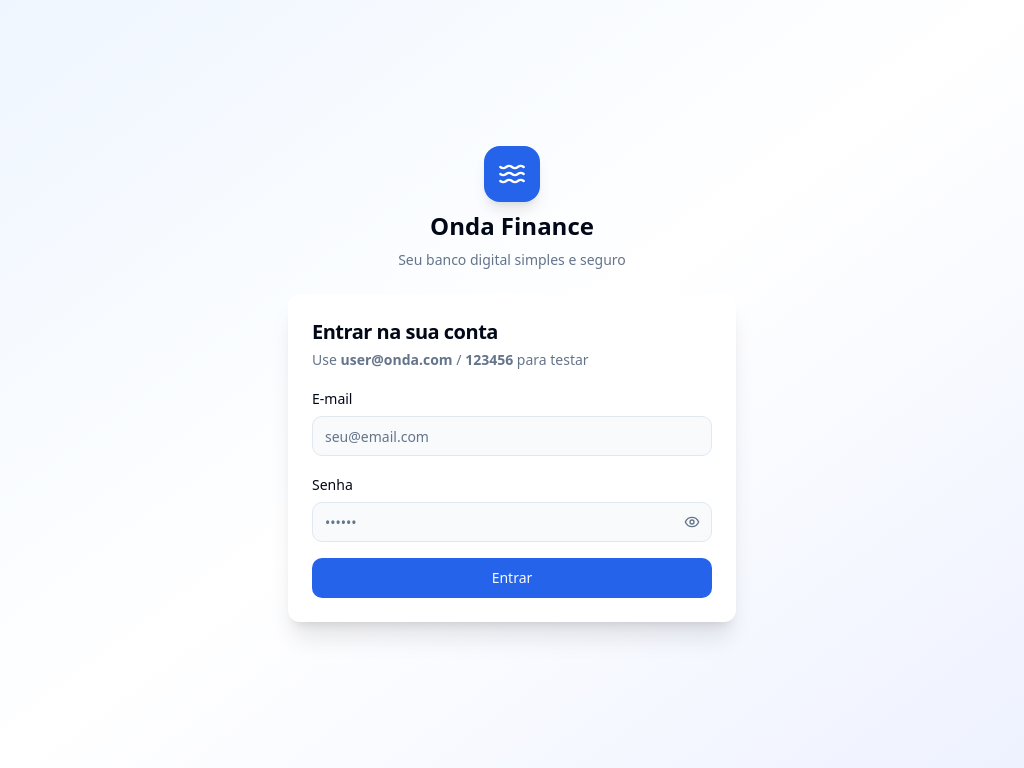
Login Page › shows error message on invalid credentials
Type "wrong@email.com" into the field labelled "E-mail" at (512, 436), box 312,416 -> 712,456
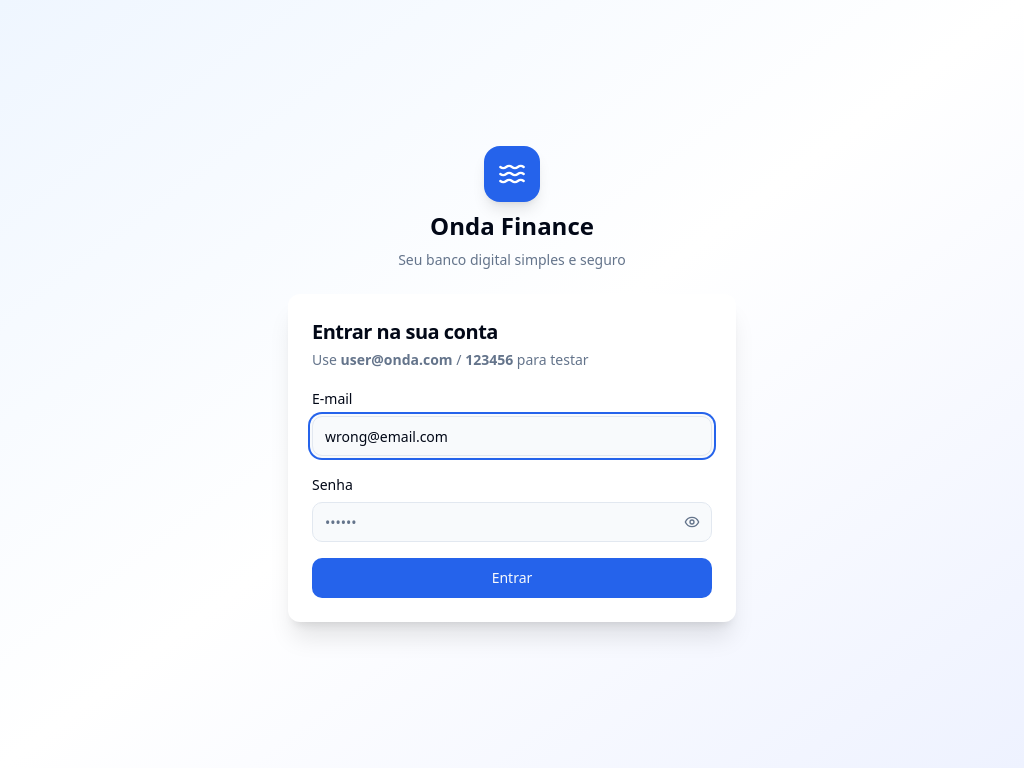
Type "wrongpassword" into the password field with placeholder "••••••" at (512, 522), box 312,502 -> 712,542
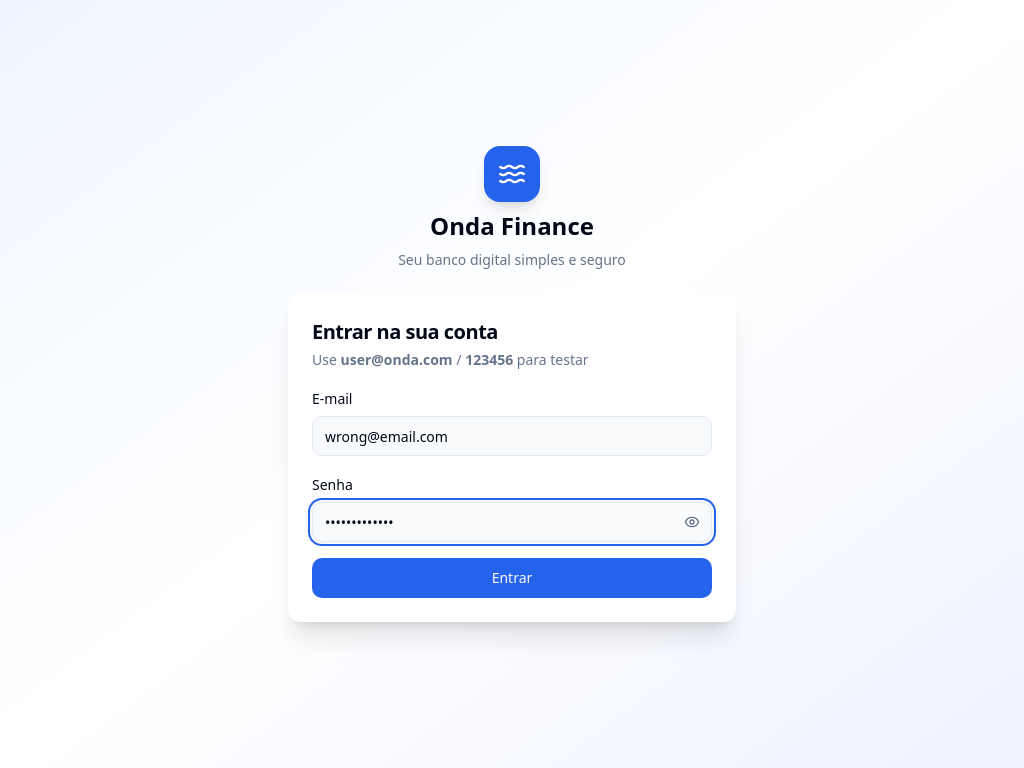
Click the button "Entrar" at (512, 578), box 312,558 -> 712,598
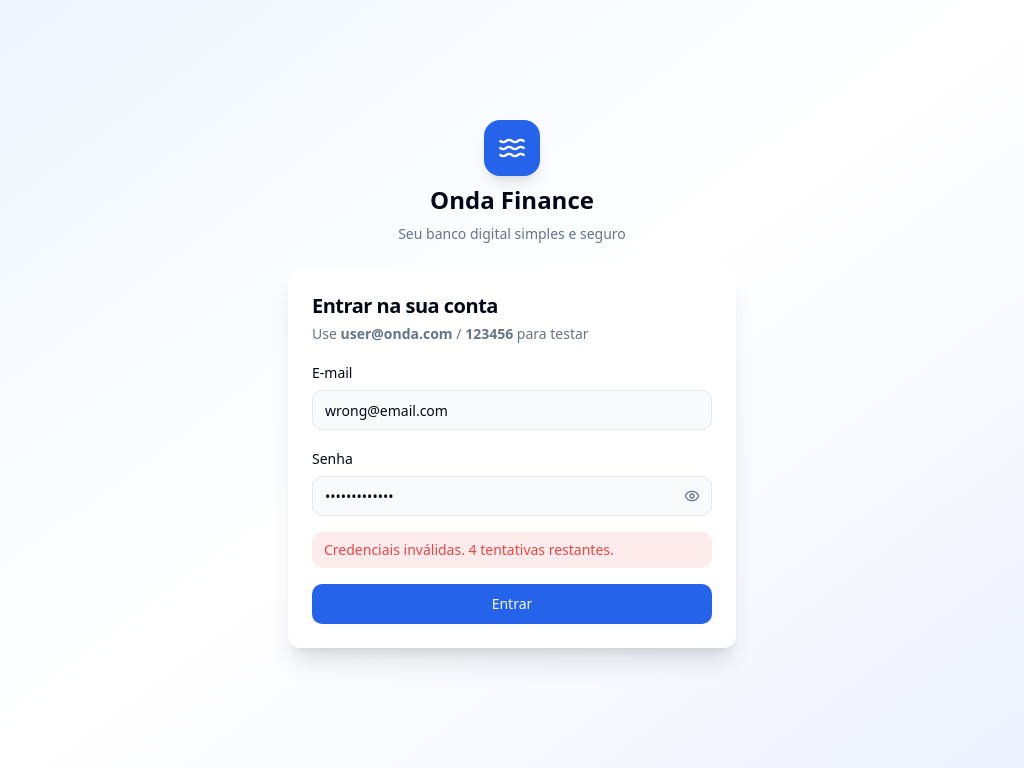
Expected: the message shows "Credenciais inválidas", 324,540 -> 614,559
